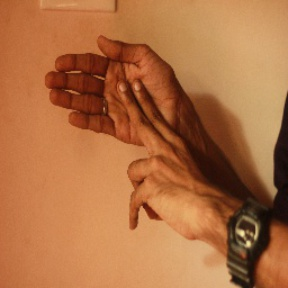N: (40, 29, 195, 212)
